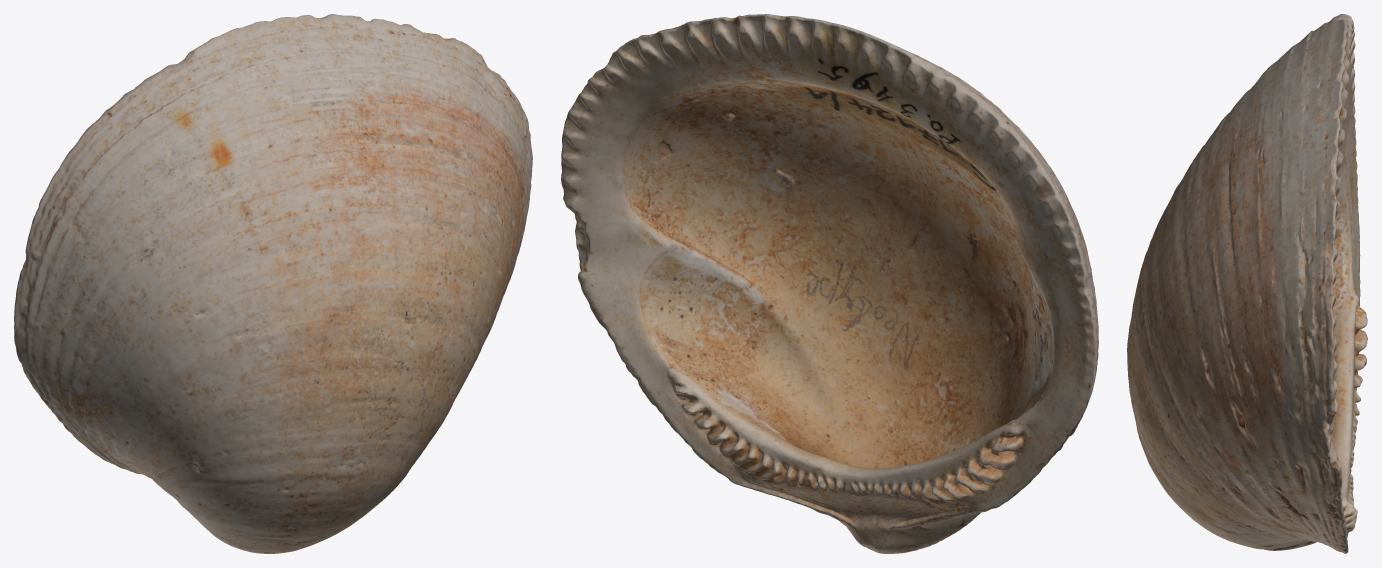
File: EWS0014033.glb
3 views of the same model, side by side, from view 1: azimuth 30°, elevation 25°; view 2: azimuth 150°, elevation 25°; view 3: azimuth 270°, elevation 25° (orthographic). The views are drawn at different scales.
Parts seen in each view (by area): view 1: input; view 2: input; view 3: input.
Part boxes in pixels (<box>): input: <box>14,14,532,553</box>; input: <box>561,14,1098,553</box>; input: <box>1127,14,1367,553</box>.
Size of the model in its own units: 0.0519 by 0.0486 by 0.0206.
1 material, 1 textured.
